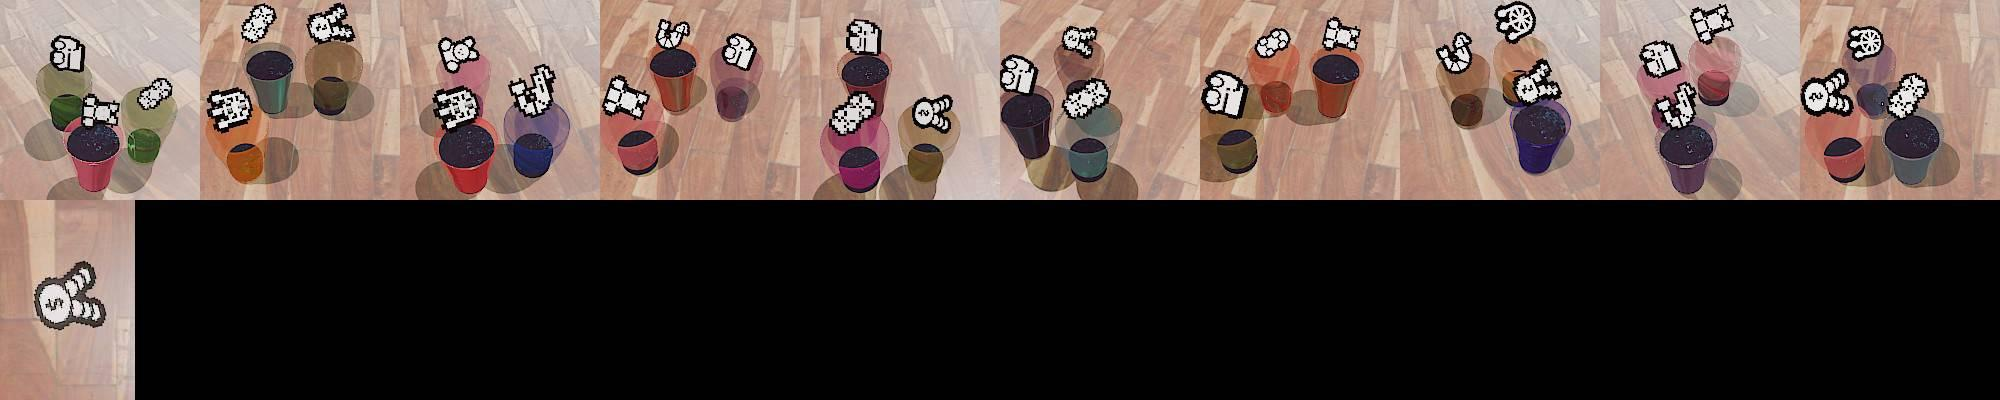icon: (31, 260, 106, 330), (509, 64, 559, 118), (1801, 68, 1853, 118), (1510, 57, 1562, 104), (828, 89, 878, 136), (430, 85, 481, 131), (602, 74, 652, 120), (1061, 76, 1111, 122), (1653, 79, 1699, 129), (1202, 70, 1246, 121), (1884, 71, 1929, 118), (207, 87, 254, 131), (305, 3, 353, 45), (1689, 3, 1733, 43), (1494, 1, 1536, 43), (437, 34, 481, 74), (1000, 52, 1040, 96), (911, 94, 954, 132), (1639, 39, 1681, 78), (1436, 31, 1473, 74), (239, 4, 277, 43), (1320, 17, 1361, 54), (79, 93, 121, 129), (721, 32, 759, 70), (844, 18, 881, 56), (50, 34, 85, 73), (135, 76, 175, 111), (1846, 25, 1883, 61), (653, 18, 693, 51), (1061, 23, 1097, 56), (1254, 27, 1291, 59)
